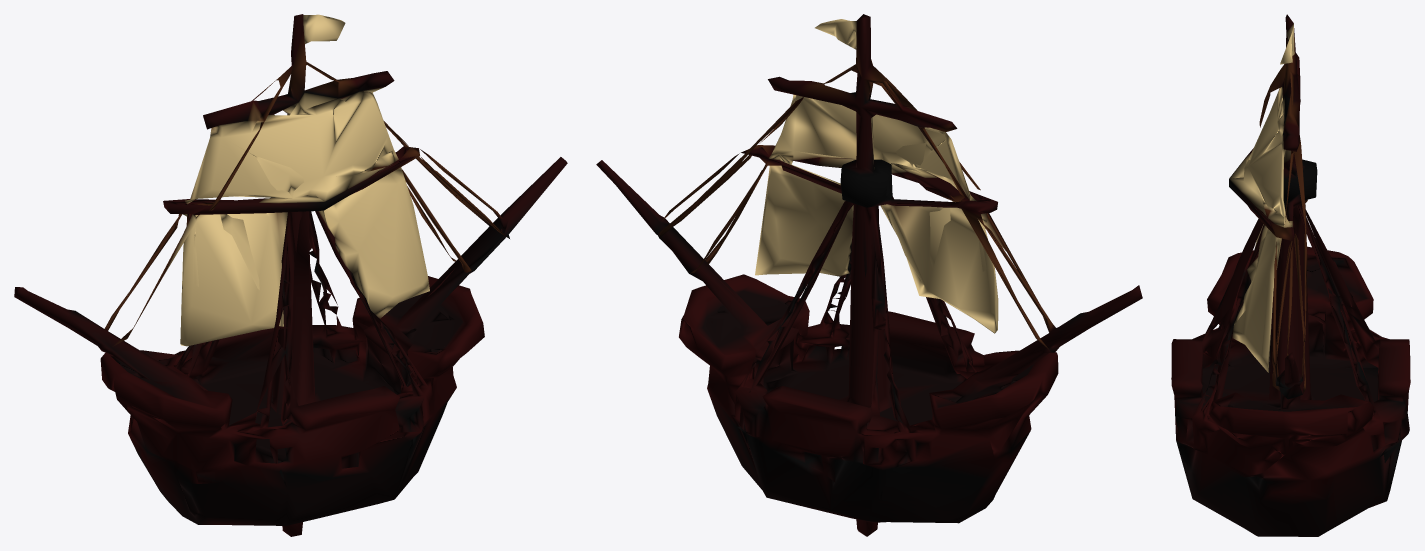
File: gen3d-pirate-ship-lod0.glb
The picture shows the model from 3 angles, left to right: view 1: azimuth 30°, elevation 25°; view 2: azimuth 150°, elevation 25°; view 3: azimuth 270°, elevation 25°; orthographic projection.
Visible parts, largest first — view 1: part_0; view 2: part_0; view 3: part_0.
Part boxes in pixels (box(x1,y1,x2,y2)): part_0: box(14, 14, 567, 536); part_0: box(596, 14, 1142, 536); part_0: box(1171, 14, 1410, 536).
Bounding box in the file's own units: 1.1 × 0.9921 × 0.4155.
